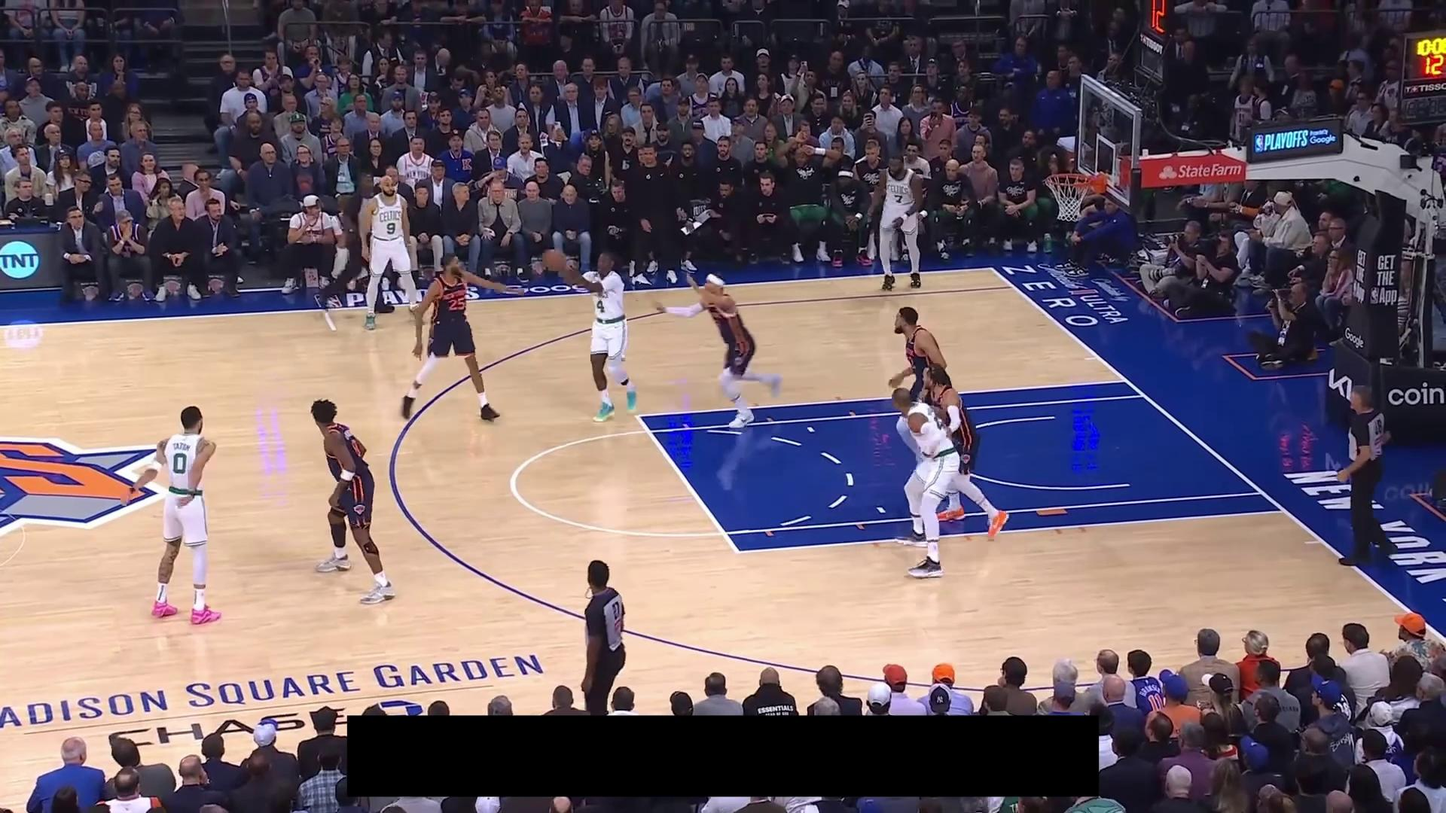ball: (542, 248, 566, 272)
number: (172, 452, 187, 474), (448, 297, 466, 312), (386, 221, 396, 236), (596, 299, 606, 313), (893, 193, 904, 205)
player: (120, 405, 223, 627), (400, 251, 527, 422), (654, 269, 786, 431), (313, 397, 397, 606), (922, 365, 1011, 540), (891, 387, 960, 579), (358, 173, 422, 331), (862, 148, 926, 291), (887, 304, 955, 403)
player-in-possession: (542, 248, 638, 423)
referee: (1336, 385, 1399, 567), (581, 560, 627, 715)
rim: (1046, 172, 1092, 188)
